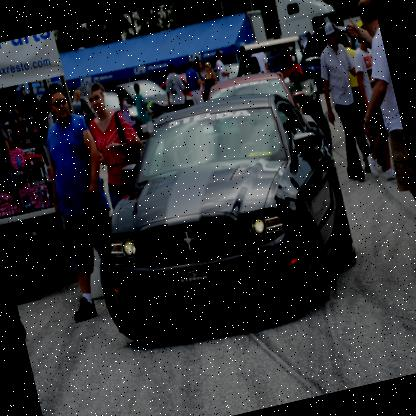Car: (67, 76, 366, 350), (204, 66, 298, 134), (80, 82, 158, 152), (116, 70, 194, 124), (157, 66, 205, 112)
